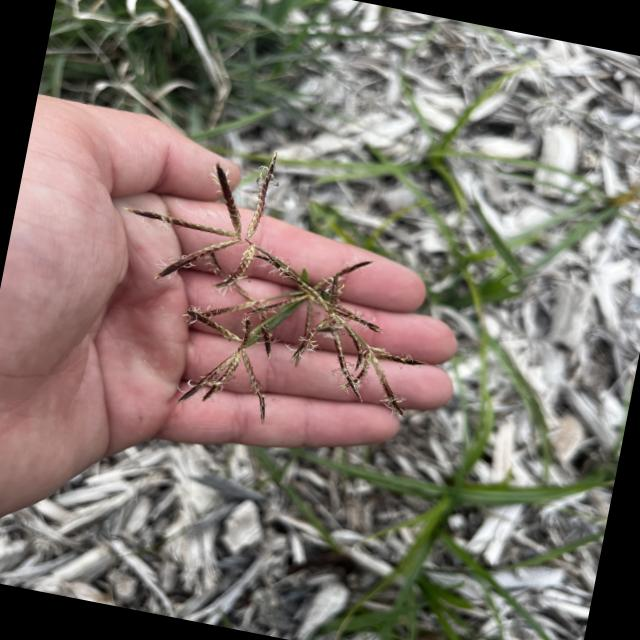cyperus: (98, 139, 463, 454)
